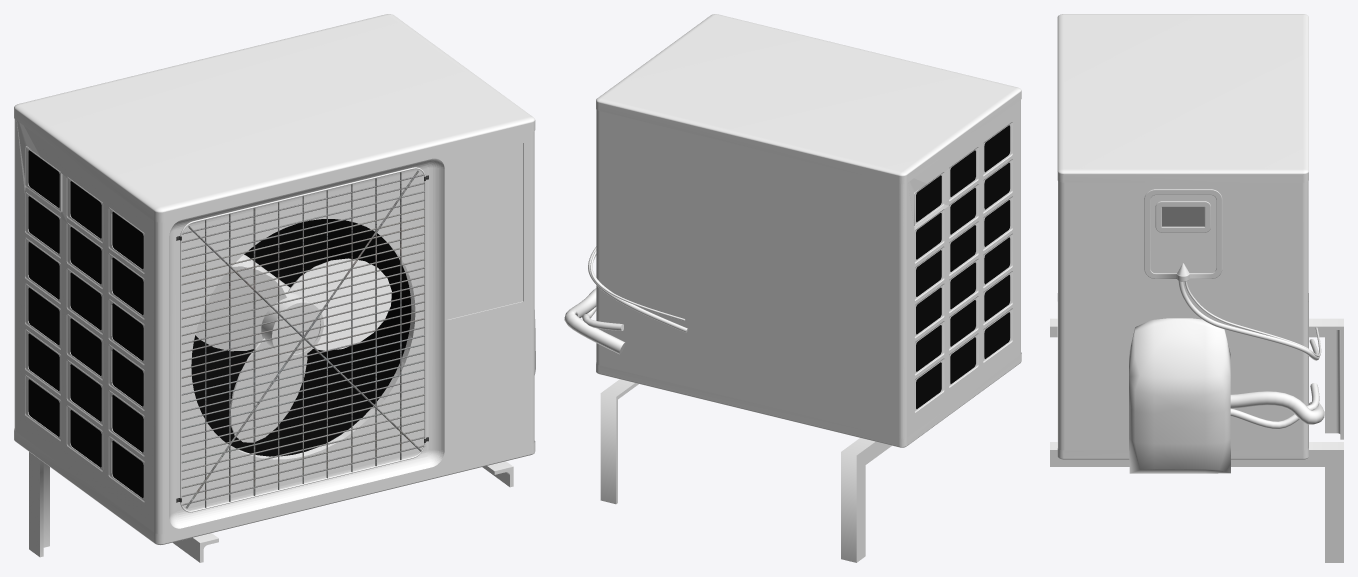
The model's file is 8_1_outdoor_kondei.FBX.
3 views of the same model, side by side, from view 1: azimuth 30°, elevation 25°; view 2: azimuth 150°, elevation 25°; view 3: azimuth 270°, elevation 25° (orthographic). The views are drawn at different scales.
Parts seen in each view (by area): view 1: Rectangle0, ChamferBox, Plane01, Plane06, OilTank01, ChamferBo0, Cylinder009, Group001, Cylinder011, Cylinder010, Cylinder02, Line10 (+1 smaller); view 2: Rectangle0, ChamferBox, Plane01, ChamferBo0, Line10, Line09, Line01, Line03; view 3: Rectangle0, ChamferBox, Box002, Line09, Line10, Rectangle3, ChamferBo0, Line01, Line03, Rectangle4, Box001, Line02 (+1 smaller).
Part boxes in pixels (x1,y1,x2,y2): Rectangle0: [14, 119, 534, 534]; ChamferBox: [14, 14, 535, 222]; Plane01: [28, 150, 143, 498]; Plane06: [181, 174, 425, 505]; OilTank01: [191, 219, 411, 456]; ChamferBo0: [14, 428, 535, 545]; Cylinder009: [288, 258, 391, 350]; Group001: [185, 170, 421, 508]; Cylinder011: [230, 338, 307, 442]; Cylinder010: [195, 265, 286, 351]; Cylinder02: [233, 254, 323, 358]; Line10: [29, 452, 218, 562]; Rectangle0: [596, 100, 1020, 438]; ChamferBox: [596, 14, 1021, 184]; Plane01: [916, 125, 1009, 408]; ChamferBo0: [596, 352, 1021, 447]; Line10: [841, 438, 891, 562]; Line09: [600, 379, 638, 504]; Line01: [564, 288, 625, 354]; Line03: [588, 246, 688, 332]; Rectangle0: [1058, 181, 1308, 450]; ChamferBox: [1057, 14, 1308, 182]; Box002: [1129, 318, 1230, 473]; Line09: [1050, 442, 1343, 562]; Line10: [1050, 318, 1343, 439]; Rectangle3: [1144, 189, 1222, 281]; ChamferBo0: [1057, 293, 1308, 459]; Line01: [1230, 391, 1324, 424]; Line03: [1178, 280, 1319, 360]; Rectangle4: [1155, 201, 1210, 232]; Box001: [1162, 207, 1204, 226]; Line02: [1230, 383, 1319, 429].
Size of the model in its own units: 675 by 709 by 469.
11 materials, 1 textured.
